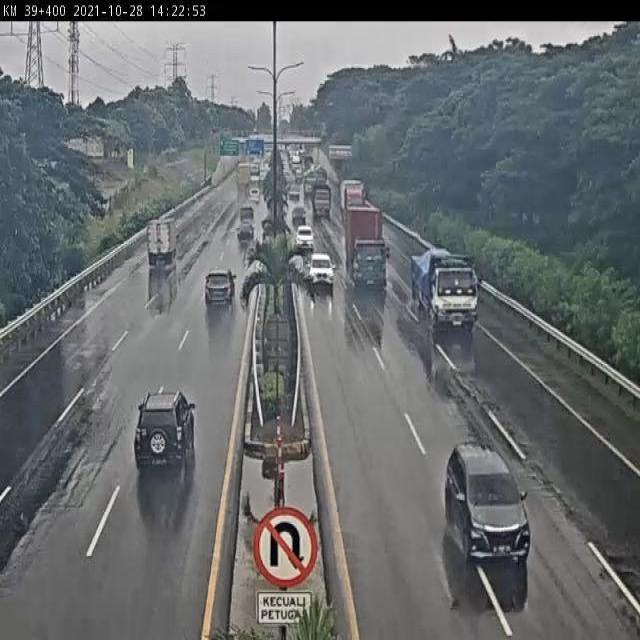car: (132, 391, 199, 472)
truck-l-: (410, 252, 480, 327)
truck-m-: (147, 219, 179, 265)
truck-xl-: (346, 207, 394, 293)
